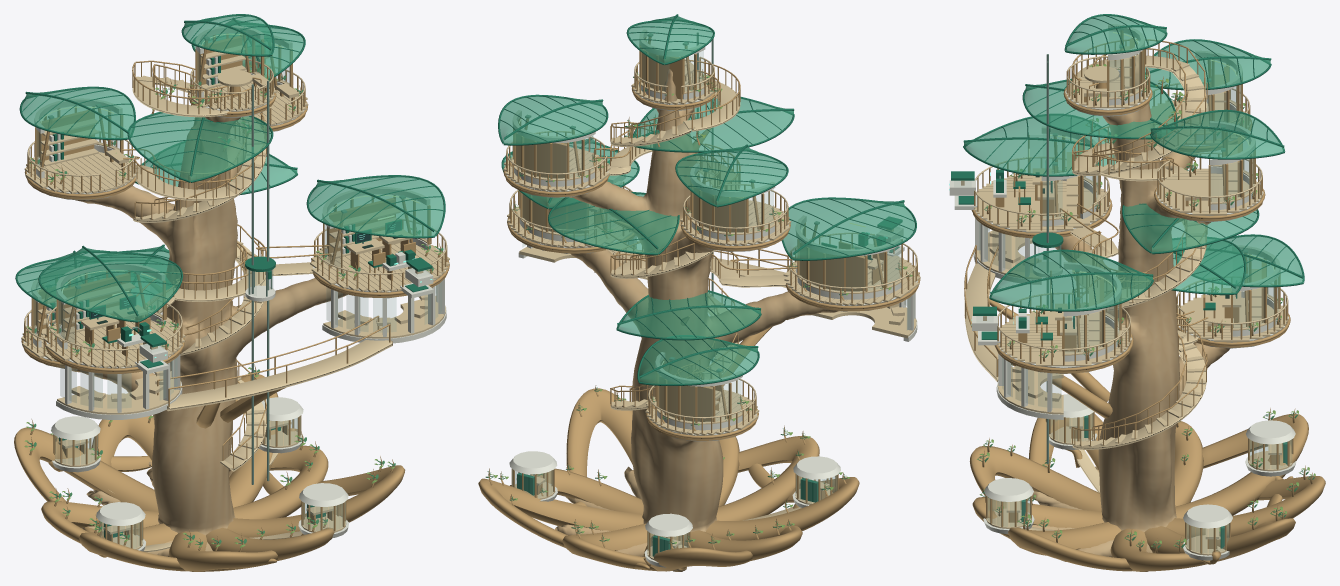
The model's file is opensource-refined-v2-low.glb.
3 views of the same model, side by side, from view 1: azimuth 30°, elevation 25°; view 2: azimuth 150°, elevation 25°; view 3: azimuth 270°, elevation 25° (orthographic). The views are drawn at different scales.
Visible parts, largest first — view 1: tree_structural_wood, tree_cut_wood, tree_leaf_glass, tree_growing_wood, tree_ivory, tree_enamel, tree_clear_glass, tree_bronze_alloy, tree_leaf_dark, tree_leaf_fresh; view 2: tree_structural_wood, tree_leaf_glass, tree_growing_wood, tree_cut_wood, tree_enamel, tree_clear_glass, tree_ivory, tree_leaf_dark, tree_leaf_fresh; view 3: tree_structural_wood, tree_cut_wood, tree_leaf_glass, tree_growing_wood, tree_ivory, tree_enamel, tree_clear_glass, tree_leaf_dark, tree_leaf_fresh, tree_bronze_alloy.
Boxes of the visible parts, <box> form: tree_structural_wood: <box>14,31,449,571</box>; tree_cut_wood: <box>21,45,449,552</box>; tree_leaf_glass: <box>17,15,443,320</box>; tree_growing_wood: <box>71,116,347,556</box>; tree_ivory: <box>23,26,446,551</box>; tree_enamel: <box>15,14,445,537</box>; tree_clear_glass: <box>34,52,441,548</box>; tree_bronze_alloy: <box>48,28,405,484</box>; tree_leaf_dark: <box>27,66,443,545</box>; tree_leaf_fresh: <box>24,65,442,547</box>; tree_structural_wood: <box>478,37,920,571</box>; tree_leaf_glass: <box>500,15,914,383</box>; tree_growing_wood: <box>555,69,839,571</box>; tree_cut_wood: <box>503,56,920,559</box>; tree_enamel: <box>498,14,916,556</box>; tree_clear_glass: <box>512,51,910,557</box>; tree_ivory: <box>506,29,917,567</box>; tree_leaf_dark: <box>485,72,910,544</box>; tree_leaf_fresh: <box>489,74,912,543</box>; tree_structural_wood: <box>964,30,1325,571</box>; tree_cut_wood: <box>964,46,1292,555</box>; tree_leaf_glass: <box>964,15,1303,309</box>; tree_growing_wood: <box>1032,54,1230,571</box>; tree_ivory: <box>954,24,1296,560</box>; tree_enamel: <box>958,14,1304,548</box>; tree_clear_glass: <box>979,50,1292,553</box>; tree_leaf_dark: <box>978,67,1314,548</box>; tree_leaf_fresh: <box>977,56,1315,546</box>; tree_bronze_alloy: <box>999,28,1247,463</box>.
Size of the model in its own units: 14.68 by 18.21 by 11.87.
